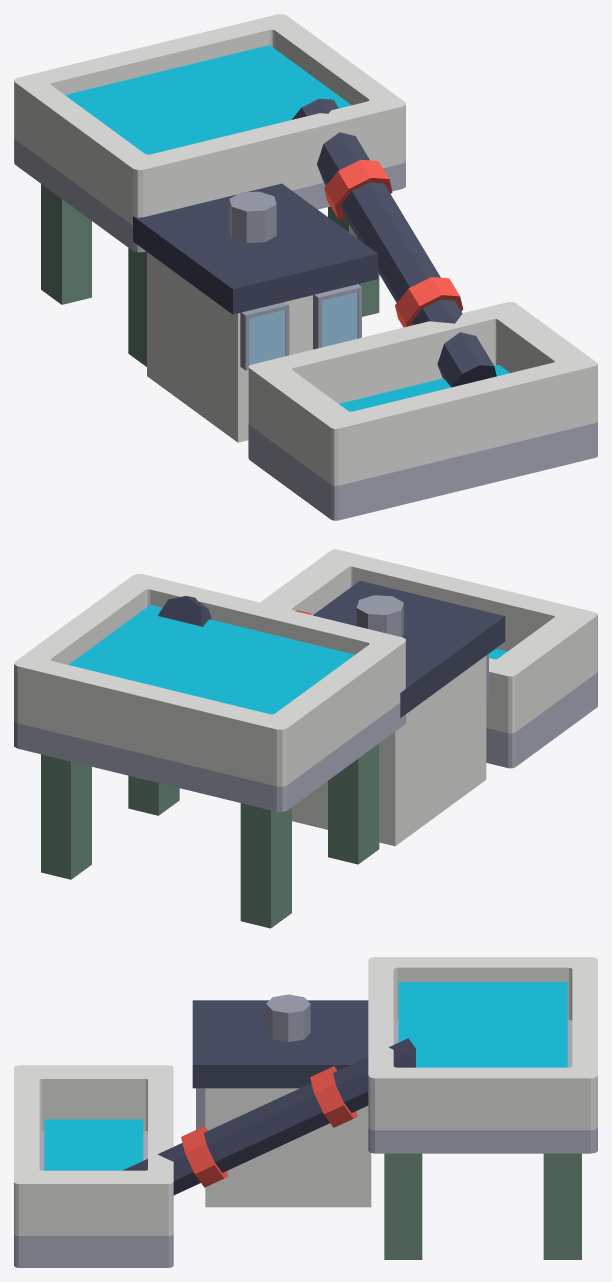
The model's file is hydro-1x2-t1-tone-a.glb.
The picture shows the model from 3 angles, top to bottom: view 1: azimuth 30°, elevation 25°; view 2: azimuth 150°, elevation 25°; view 3: azimuth 270°, elevation 25°; orthographic projection. The views are drawn at different scales.
Visible parts, largest first — view 1: hydro-1x2-t1-tone-a; view 2: hydro-1x2-t1-tone-a; view 3: hydro-1x2-t1-tone-a.
Part boxes in pixels (box(x1,y1,x2,y2)): hydro-1x2-t1-tone-a: box(14, 14, 597, 520); hydro-1x2-t1-tone-a: box(14, 549, 597, 928); hydro-1x2-t1-tone-a: box(14, 957, 597, 1267).
Size of the model in its own units: 0.9 by 0.6868 by 1.83.
1 material, 1 textured.
